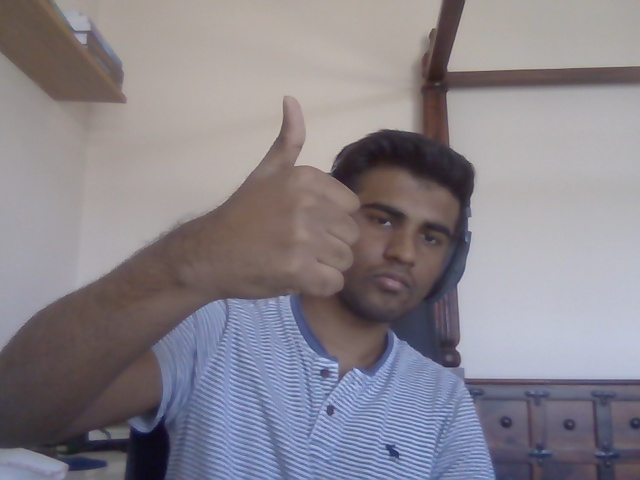Yes: (214, 95, 361, 300)
